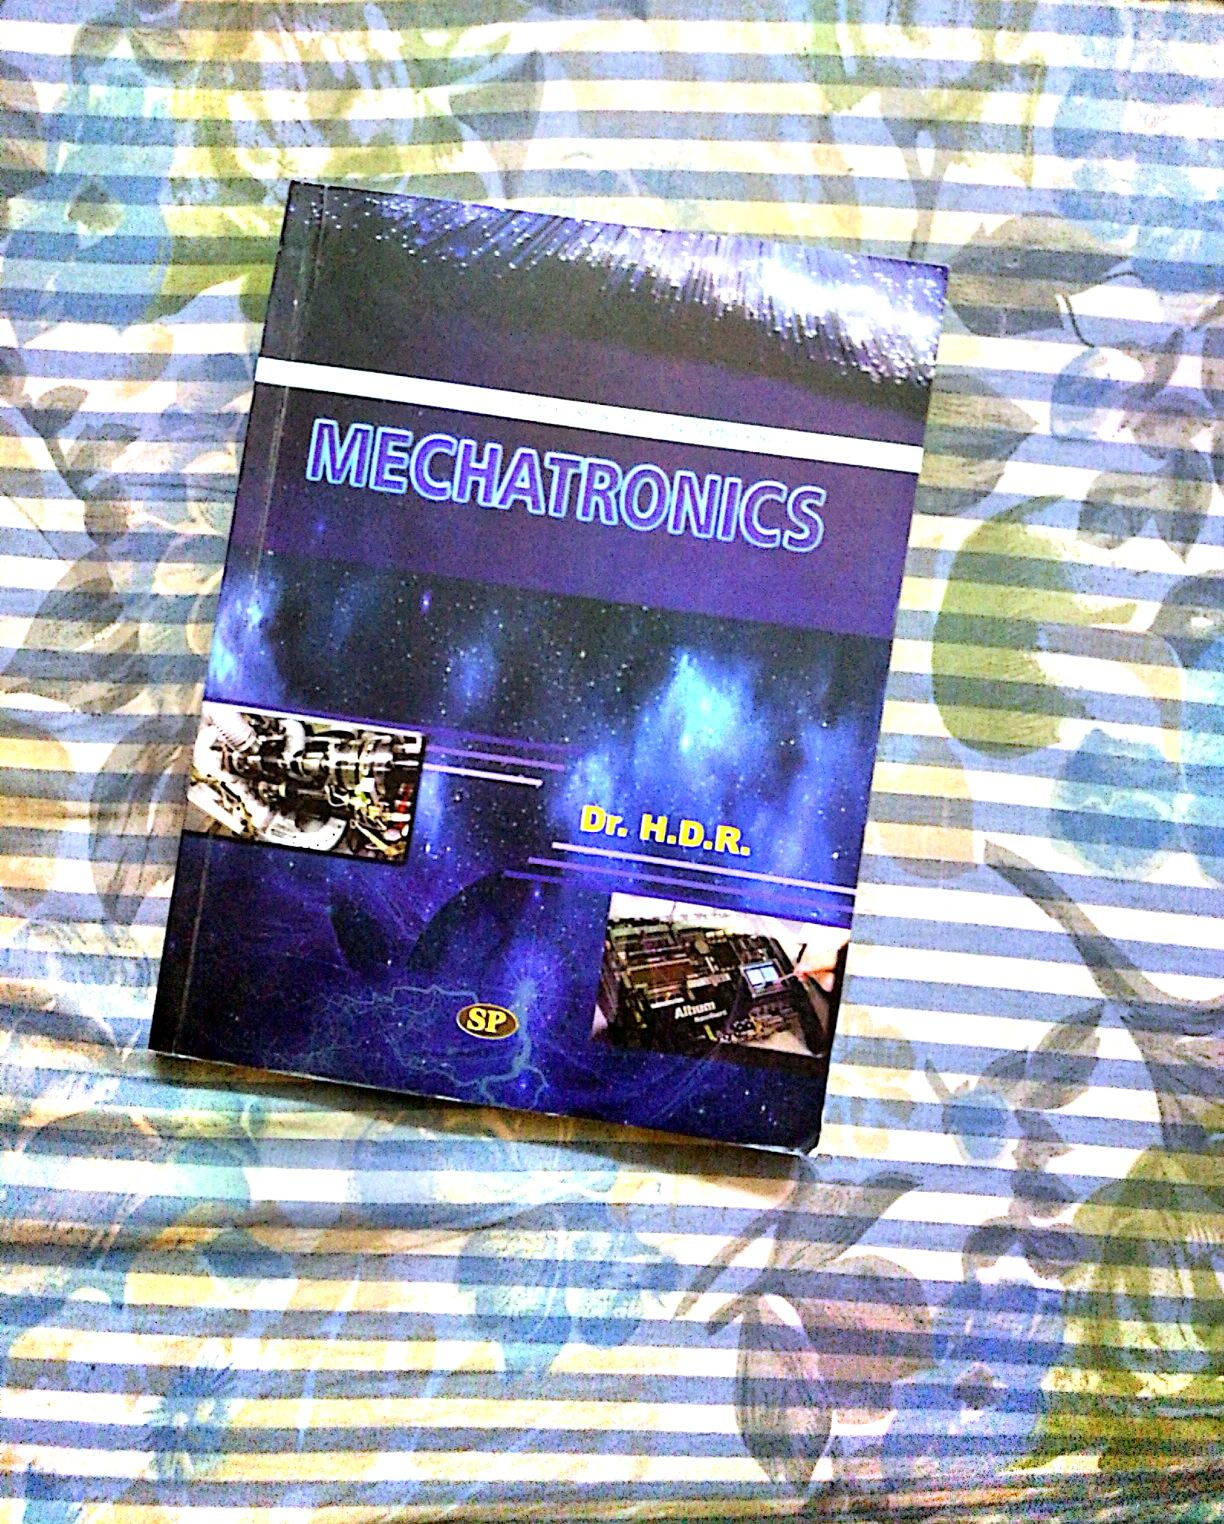mechatronics: (145, 155, 1033, 1209)
